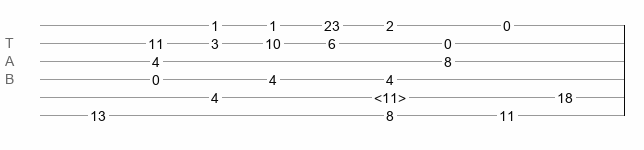0: (152, 72, 160, 82), (444, 36, 452, 46), (503, 18, 511, 28)
1: (211, 18, 219, 28), (269, 18, 277, 28)
10: (265, 36, 281, 46)
11: (148, 36, 164, 46), (499, 108, 515, 118)
13: (90, 108, 106, 118)
18: (557, 90, 573, 100)
2: (386, 18, 394, 28)
23: (324, 18, 340, 28)
3: (211, 36, 219, 46)
4: (152, 54, 160, 64), (211, 90, 219, 100), (269, 72, 277, 82), (386, 72, 394, 82)
6: (328, 36, 336, 46)
8: (386, 108, 394, 118), (444, 54, 452, 64)
harmonic: (374, 90, 406, 100)
